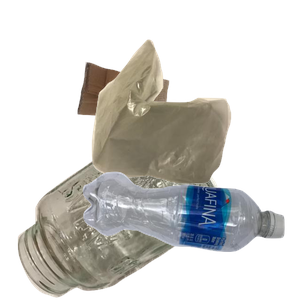cardboard: (75, 59, 237, 176)
glass: (15, 126, 229, 300)
plastic: (80, 169, 300, 300)
trash: (89, 37, 300, 213)
